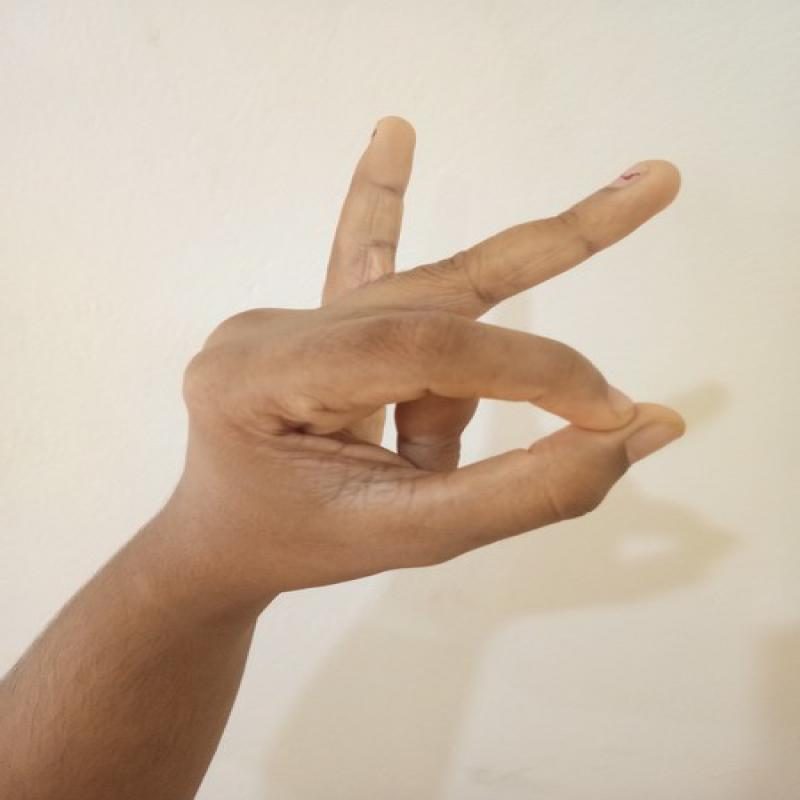Katakam: (170, 90, 702, 586)
